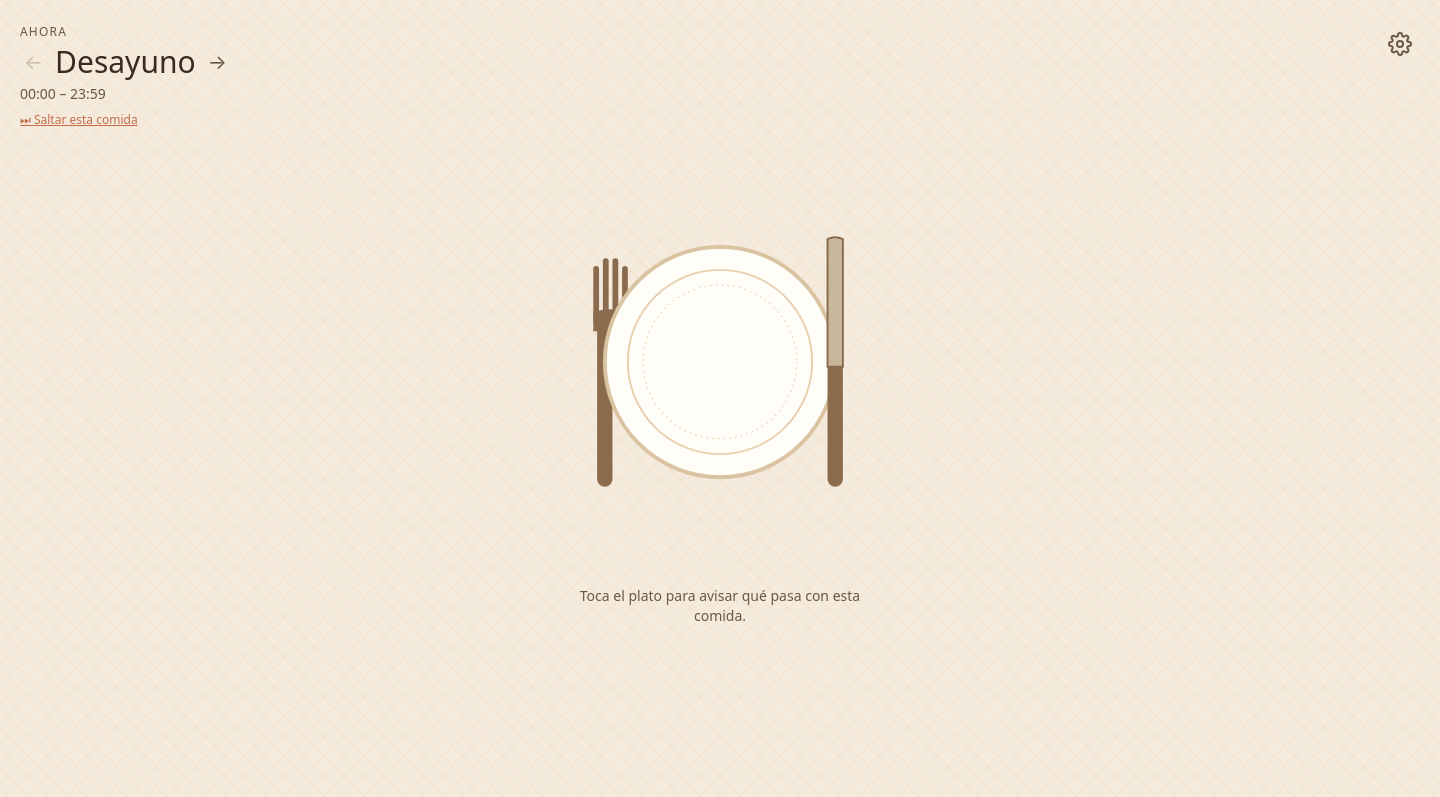
App — ruteo › botón de configuración abre la pantalla de edición
Click the button named "configuración" at (1400, 44), box [1380,24,1420,64]
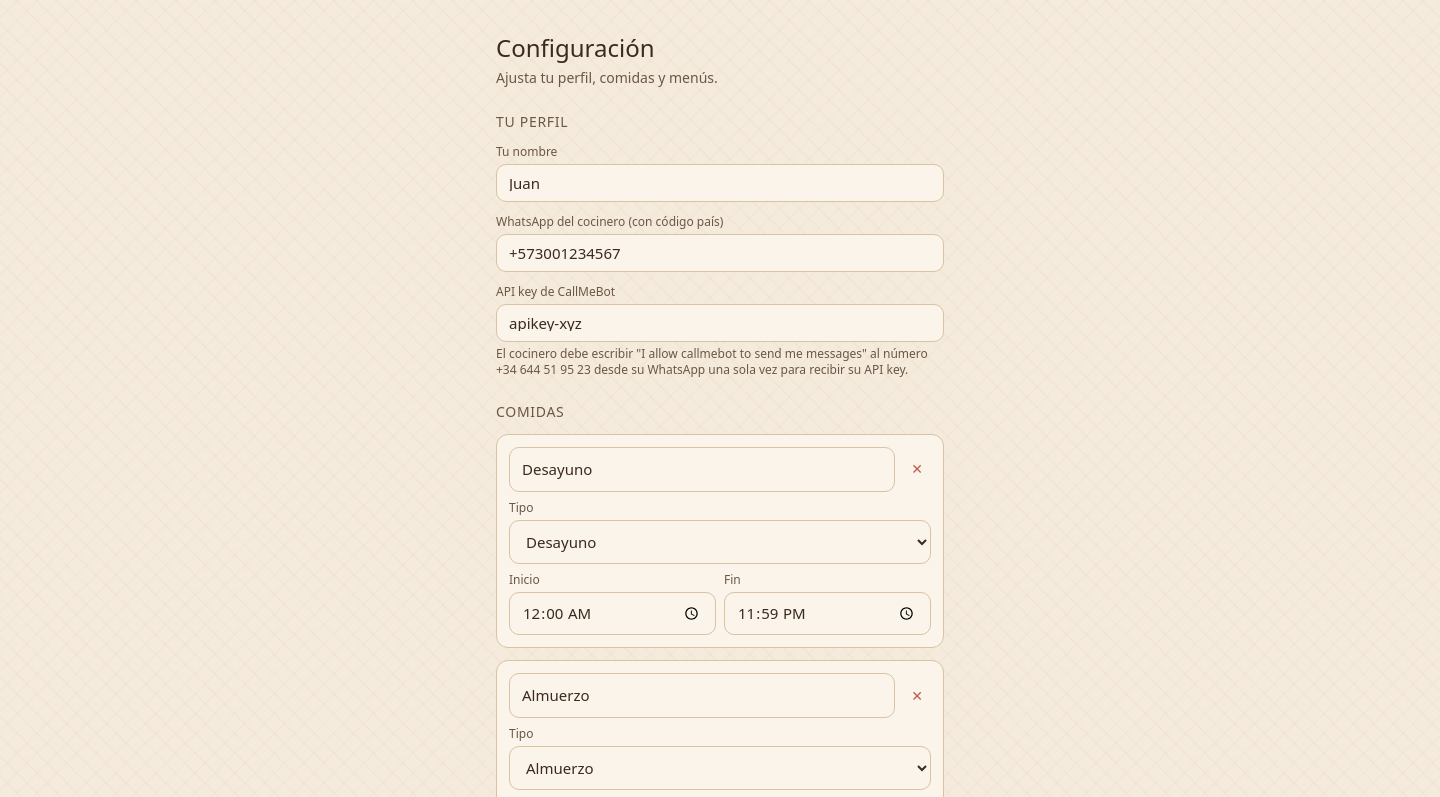
Expected: the heading "Configuración" is shown, [496,31,654,64]
